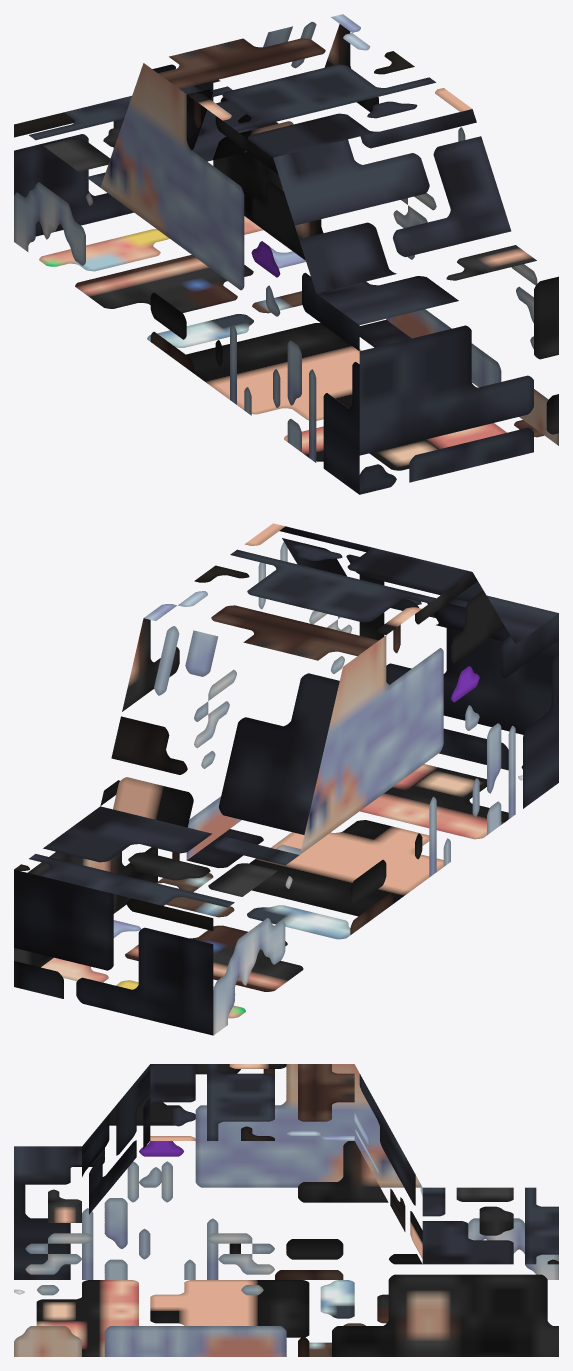
The model's file is FlyingCarModel.dae.
3 views of the same model, one above another, from view 1: azimuth 30°, elevation 25°; view 2: azimuth 150°, elevation 25°; view 3: azimuth 270°, elevation 25° (orthographic). The views are drawn at different scales.
Visible parts, largest first — view 1: cube; view 2: cube; view 3: cube.
Part boxes in pixels (x1,y1,x2,y2): cube: (14, 14, 558, 494); cube: (14, 523, 558, 1035); cube: (14, 1064, 558, 1356).
Size of the model in its own units: 1 by 1.31 by 3.
